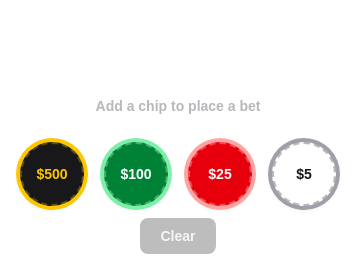
Test: item 8: chip-based betting › the commit control carries a visible on-screen label, not just an aria-label
Click the button named "Add $25 chip": (220, 174) [188,142,252,206]
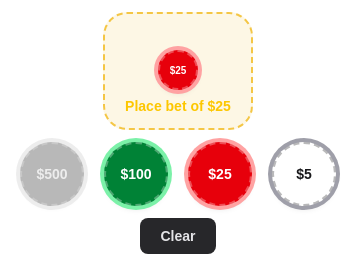
Result: the button "$25 Place bet of $25" is shown at [103,12,253,130]
